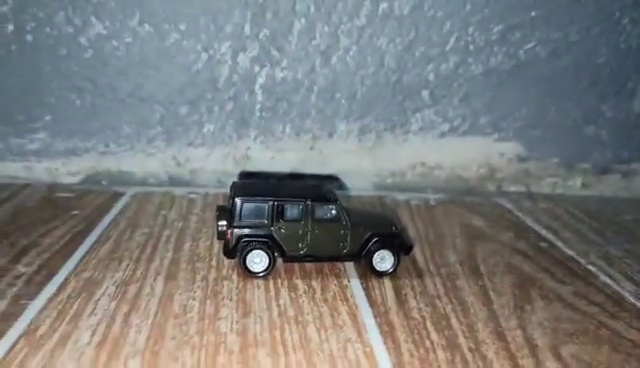car: (216, 173, 415, 291)
